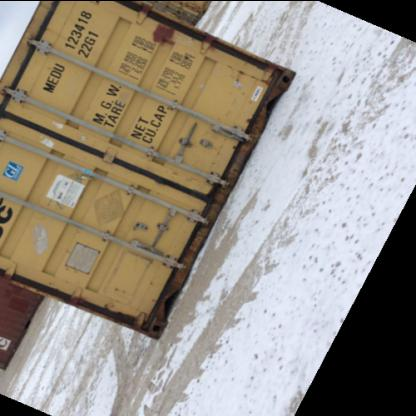Damage: (82, 295, 168, 342), (187, 168, 229, 218), (243, 54, 284, 100), (140, 16, 178, 56)
